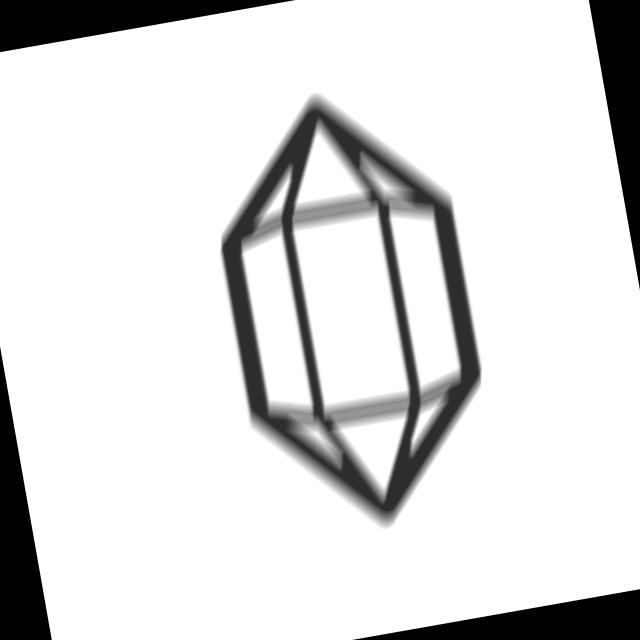crystal: (184, 65, 519, 555)
